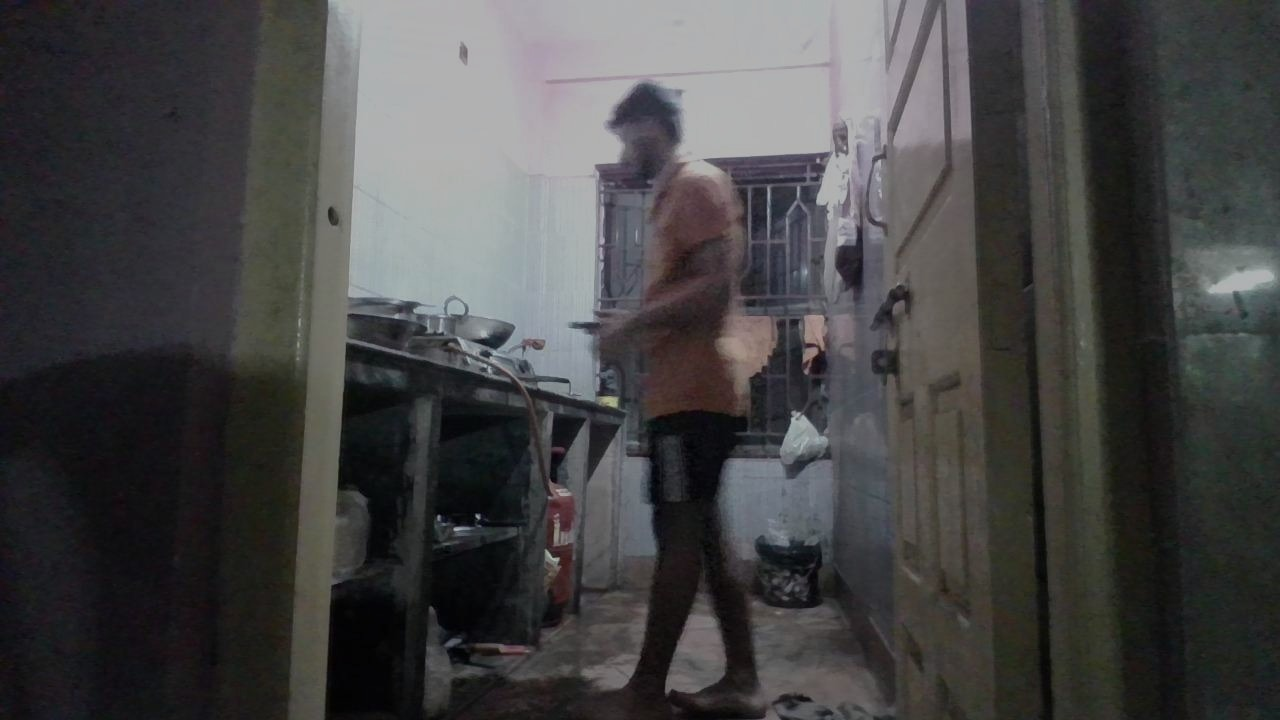red_box: (651, 375, 732, 417)
